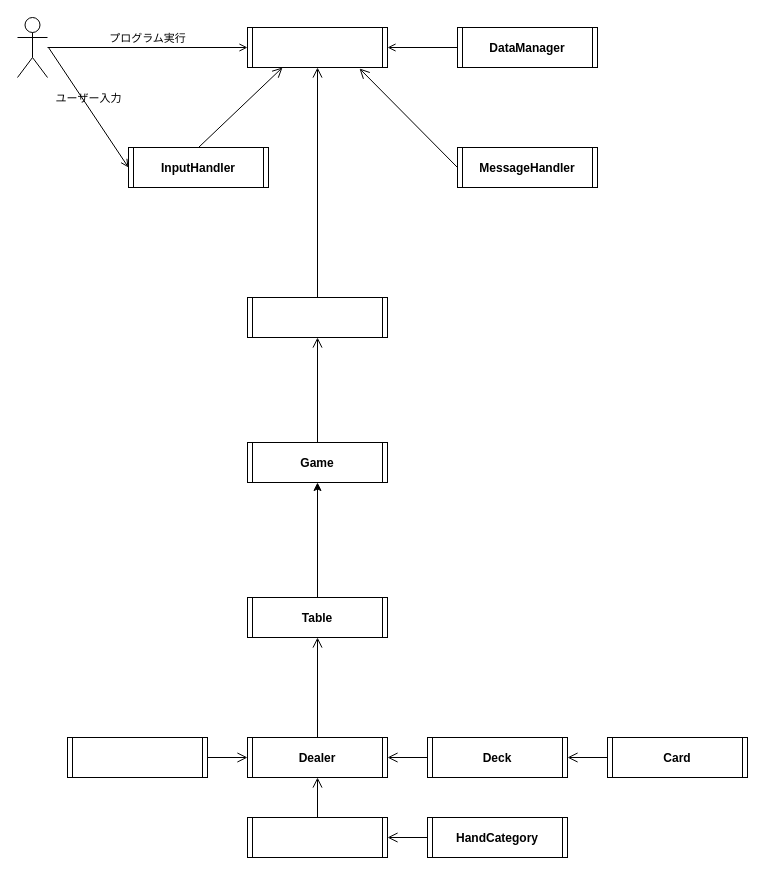
The diagram is 765 pixels wide and 875 high, and some of its shapes have lost their labels. The shapes that lost their labels are listed below. From the top down, each one's centre as x and y in pixels, then its label:
the point at 32,47: Actor
the point at 317,47: Main
the point at 317,317: GameLobby
the point at 137,757: Pot
the point at 317,837: HandEvaluator
